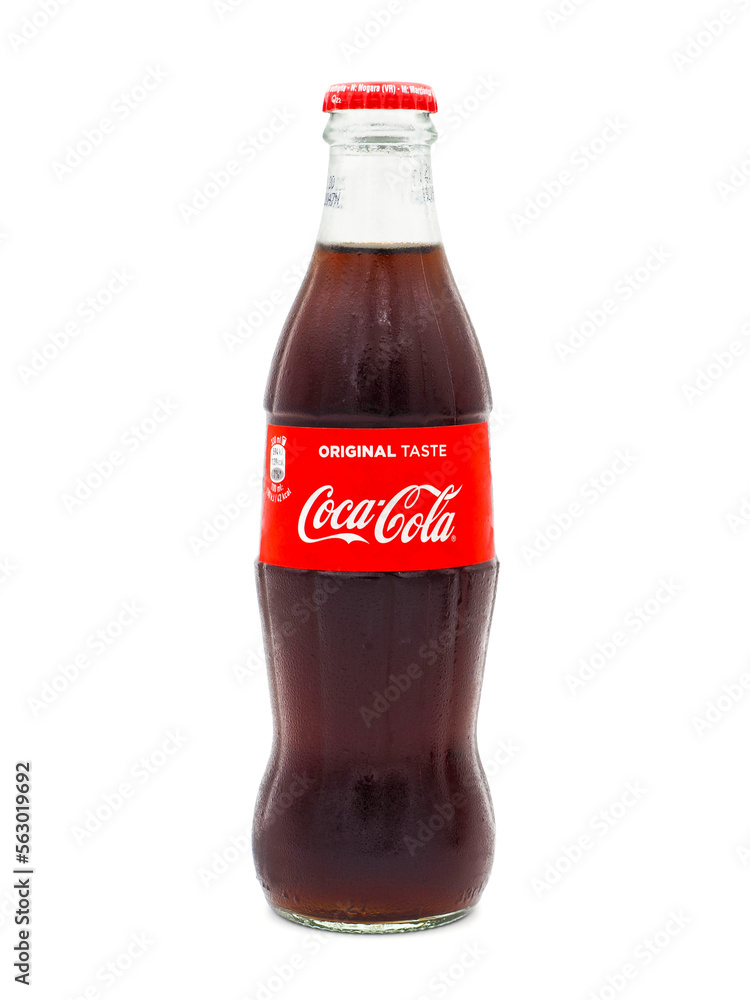glass_bottle: (226, 57, 525, 959)
